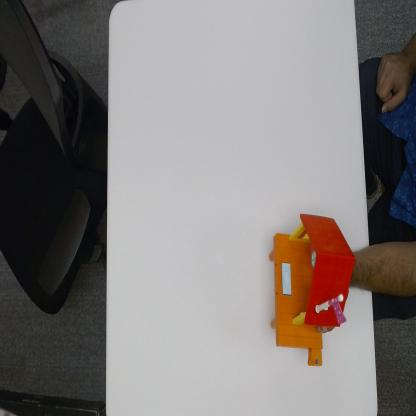Arm: (350, 249, 373, 291)
House: (268, 213, 354, 368)
